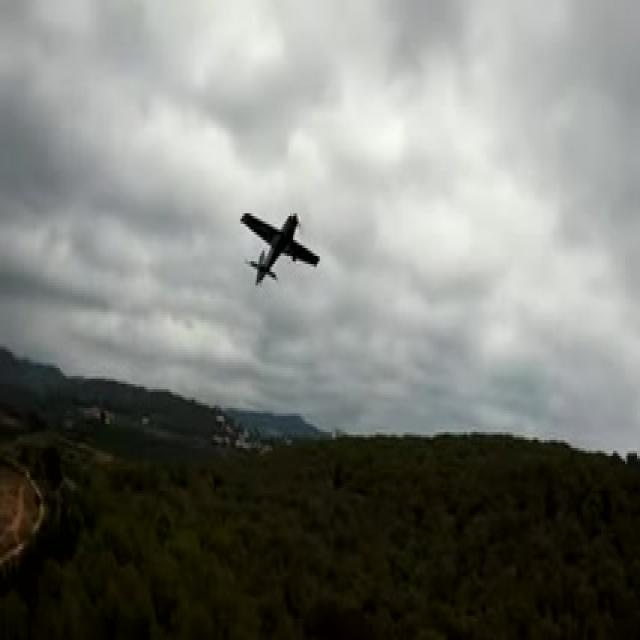iha: (272, 245, 288, 251)
